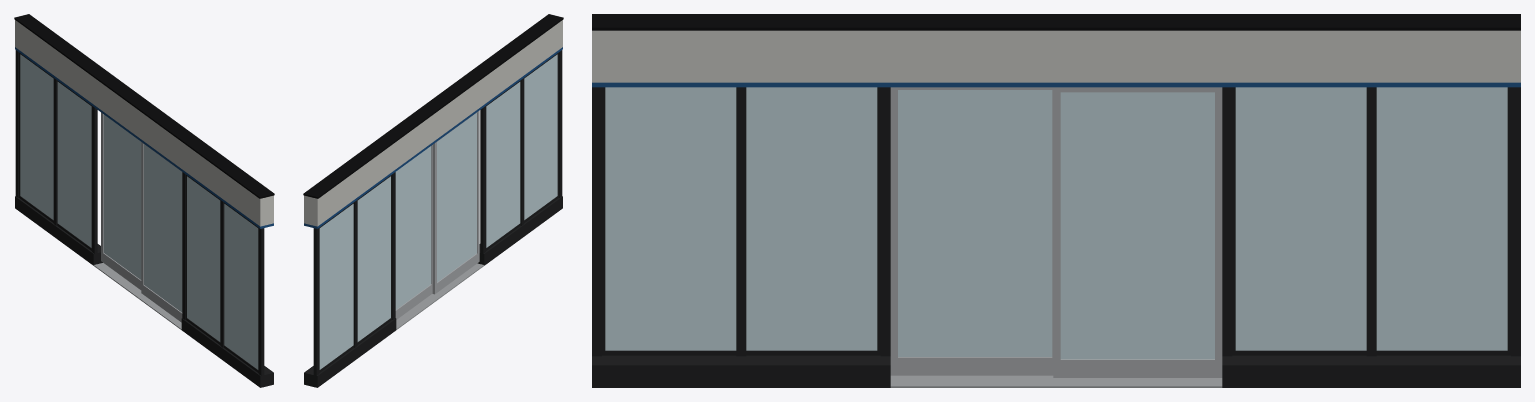
The model's file is gteki_platform_screen_door_l5600.glb.
3 renders of one model, left to right at view 1: azimuth 30°, elevation 25°; view 2: azimuth 150°, elevation 25°; view 3: azimuth 270°, elevation 25°, orthographic. The views are drawn at different scales.
Parts seen in each view (by area): view 1: VIS_body; view 2: VIS_body; view 3: VIS_body.
Part boxes in pixels (x1,y1,x2,y2): VIS_body: [14, 14, 274, 387]; VIS_body: [303, 14, 563, 387]; VIS_body: [592, 14, 1520, 387].
Size of the model in its own units: 0.196 by 2.4 by 5.6.
2 materials, 2 textured.
